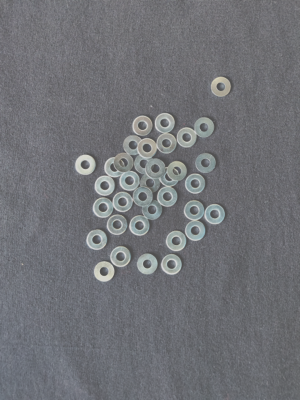circle: (136, 252, 159, 276), (94, 261, 117, 285), (137, 137, 159, 160), (75, 154, 97, 177), (162, 254, 184, 276), (156, 134, 178, 156), (107, 214, 129, 236), (86, 229, 108, 251), (194, 115, 215, 138), (132, 115, 153, 138), (104, 157, 125, 180), (195, 152, 217, 173), (186, 220, 207, 242), (167, 161, 189, 182), (157, 187, 179, 208), (145, 158, 167, 179), (140, 173, 162, 194), (130, 216, 152, 237), (154, 112, 176, 133), (123, 134, 144, 156), (119, 171, 141, 192), (94, 175, 116, 196), (113, 191, 134, 213), (111, 246, 132, 268), (93, 198, 114, 220), (167, 231, 188, 252), (159, 167, 180, 188), (177, 128, 198, 149), (114, 152, 135, 173), (210, 76, 232, 96), (206, 203, 226, 225), (144, 199, 164, 221), (133, 187, 154, 207), (186, 174, 206, 194), (185, 201, 205, 221), (135, 154, 155, 174)
